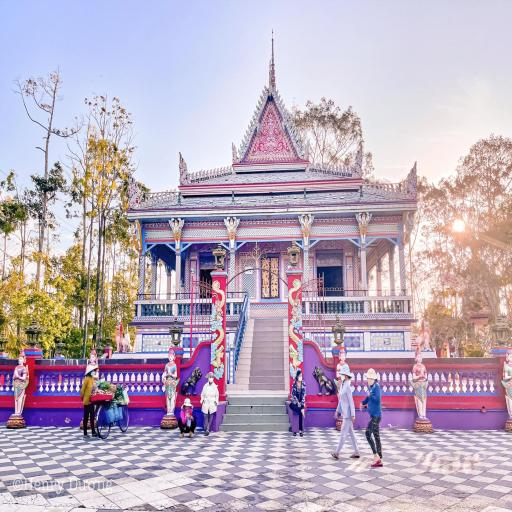lua: (262, 57, 277, 101), (273, 88, 279, 98), (239, 143, 244, 153), (241, 138, 246, 148), (247, 123, 252, 133), (249, 118, 254, 128), (280, 101, 285, 111), (296, 138, 301, 148), (287, 114, 291, 126), (243, 134, 248, 143), (253, 109, 258, 118), (259, 94, 264, 103), (276, 92, 280, 103), (237, 146, 241, 156), (245, 128, 249, 138), (282, 106, 286, 116), (292, 128, 297, 136), (252, 114, 256, 123), (255, 103, 259, 112), (278, 97, 282, 106), (285, 112, 289, 121), (294, 132, 298, 141), (288, 122, 293, 129), (261, 89, 265, 97), (258, 100, 261, 108), (264, 82, 266, 92), (292, 125, 294, 134)
ran: (398, 155, 421, 203), (124, 170, 144, 212), (348, 143, 366, 182), (175, 150, 192, 188), (224, 140, 240, 168), (298, 136, 314, 163)
than: (402, 347, 437, 439), (4, 346, 36, 432), (77, 341, 104, 433), (330, 345, 356, 432), (159, 337, 181, 430), (499, 343, 512, 433), (348, 206, 372, 252), (296, 210, 318, 252), (125, 218, 146, 260), (396, 206, 418, 246), (168, 214, 188, 258), (220, 214, 243, 252), (210, 300, 224, 329), (288, 302, 302, 328)
